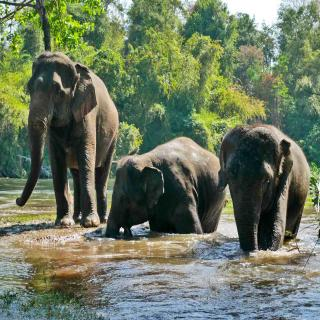Elephant: (17, 46, 121, 230), (216, 119, 314, 267), (106, 134, 230, 250)
